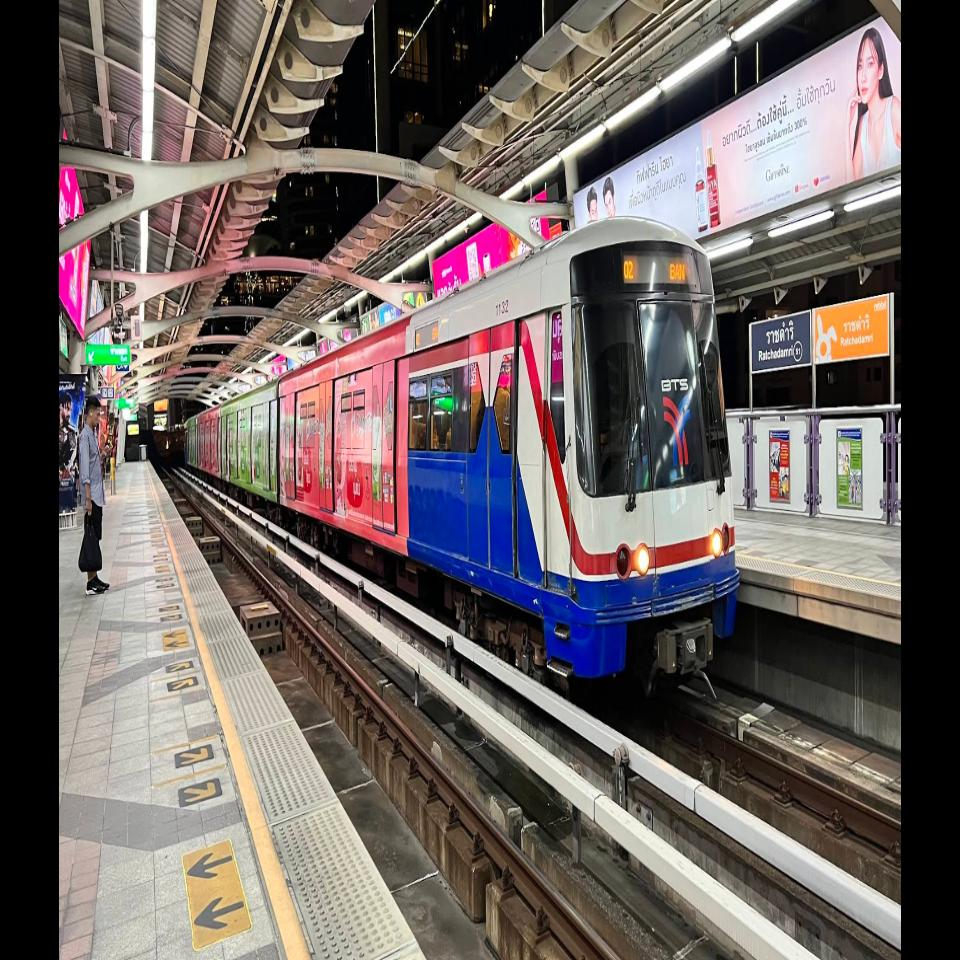signage: (812, 293, 890, 367), (750, 309, 813, 374)
